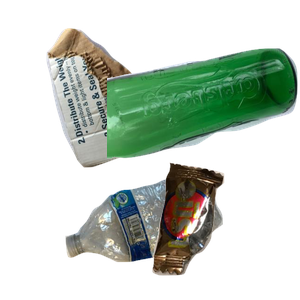cardboard: (44, 26, 209, 186)
glass: (107, 46, 300, 197)
plastic: (63, 170, 278, 300)
trash: (150, 160, 300, 300)
